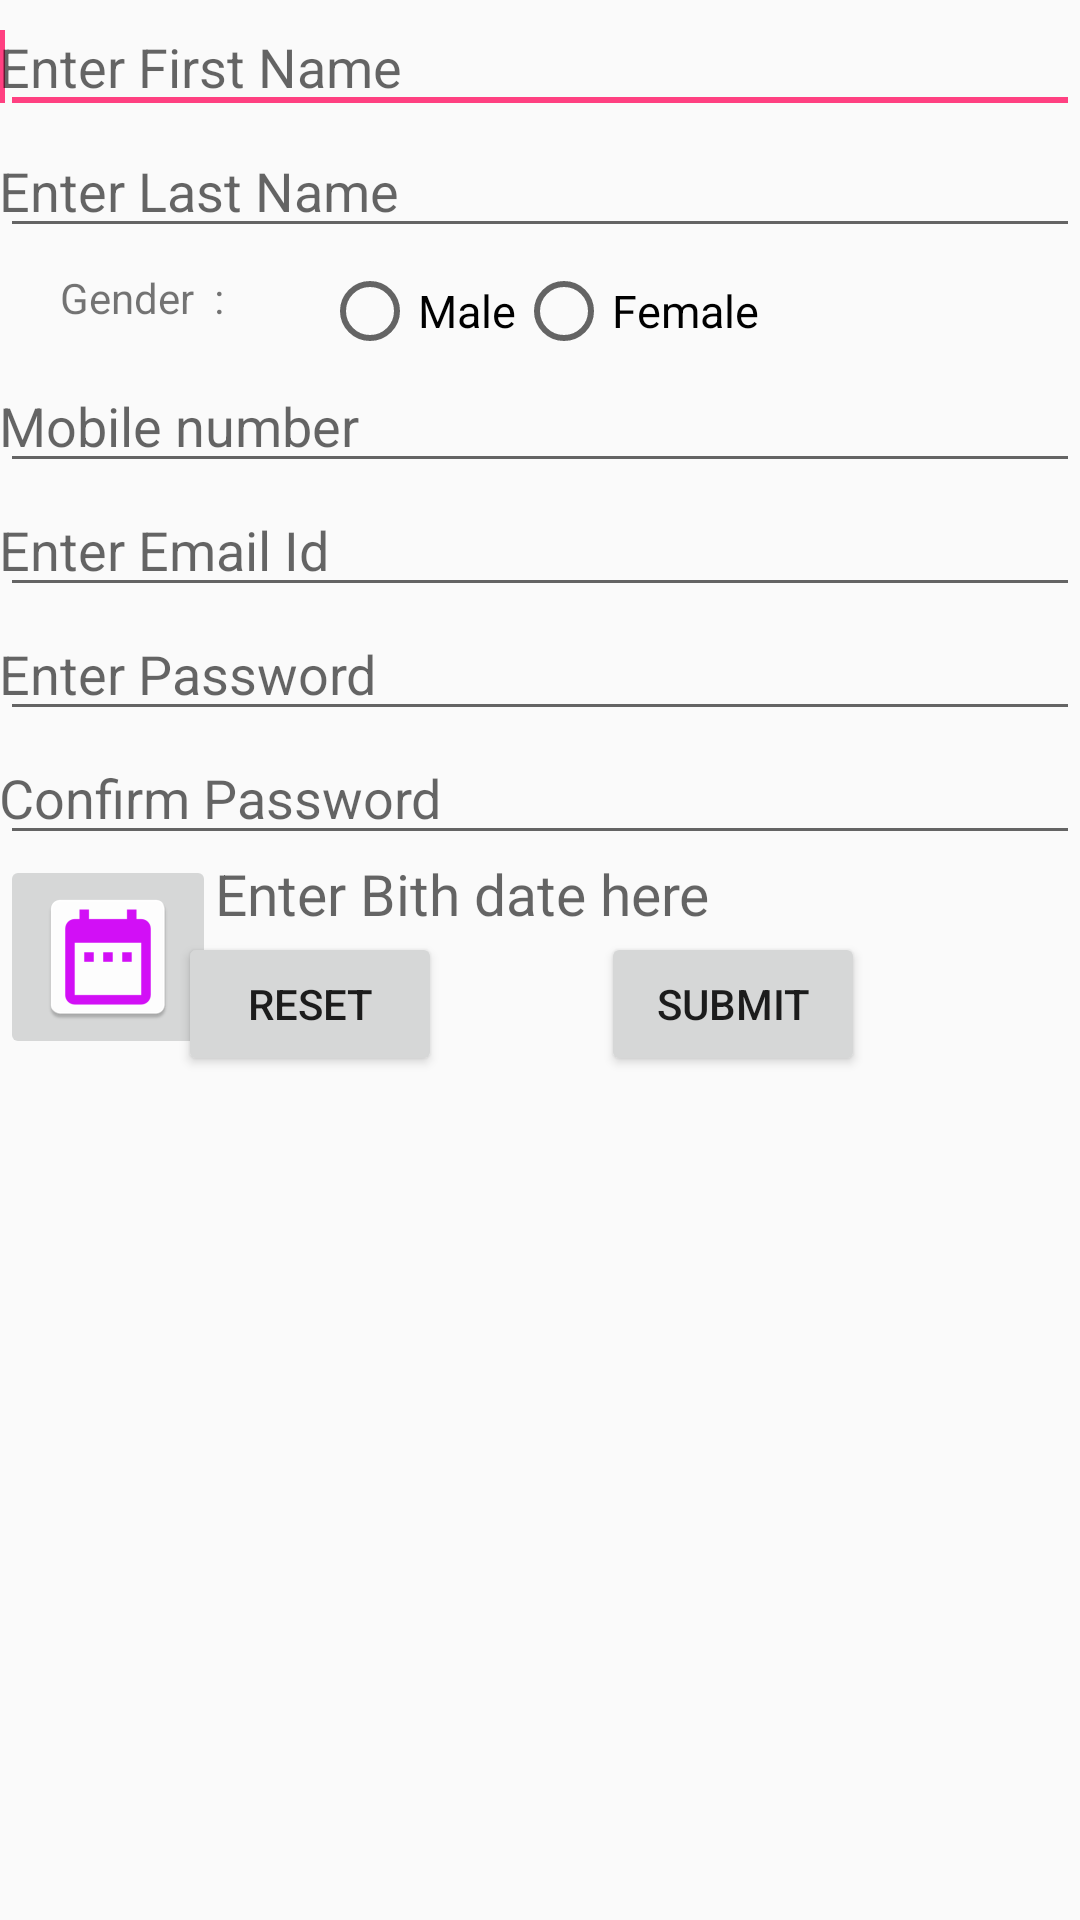

Screen size 1080 x 1920. Icon name, then its box in pixels as [x1, y1, x2, y2]:
date picker: [12, 873, 216, 1059]
